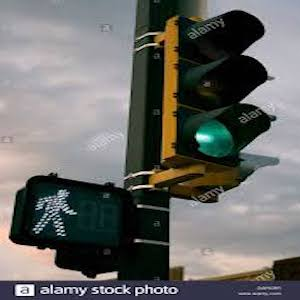green: (30, 178, 76, 239)
